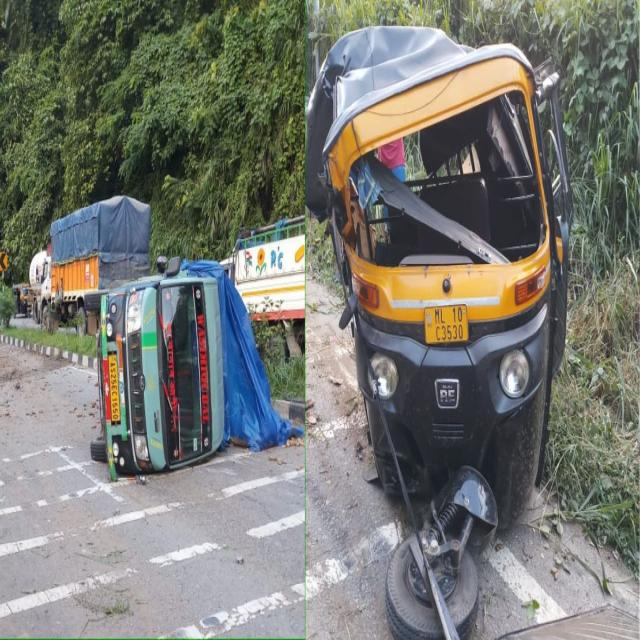accident: (306, 27, 571, 638), (91, 258, 301, 480)
autorickshaw: (12, 282, 32, 317)
truck: (32, 196, 150, 334), (220, 216, 305, 321)
